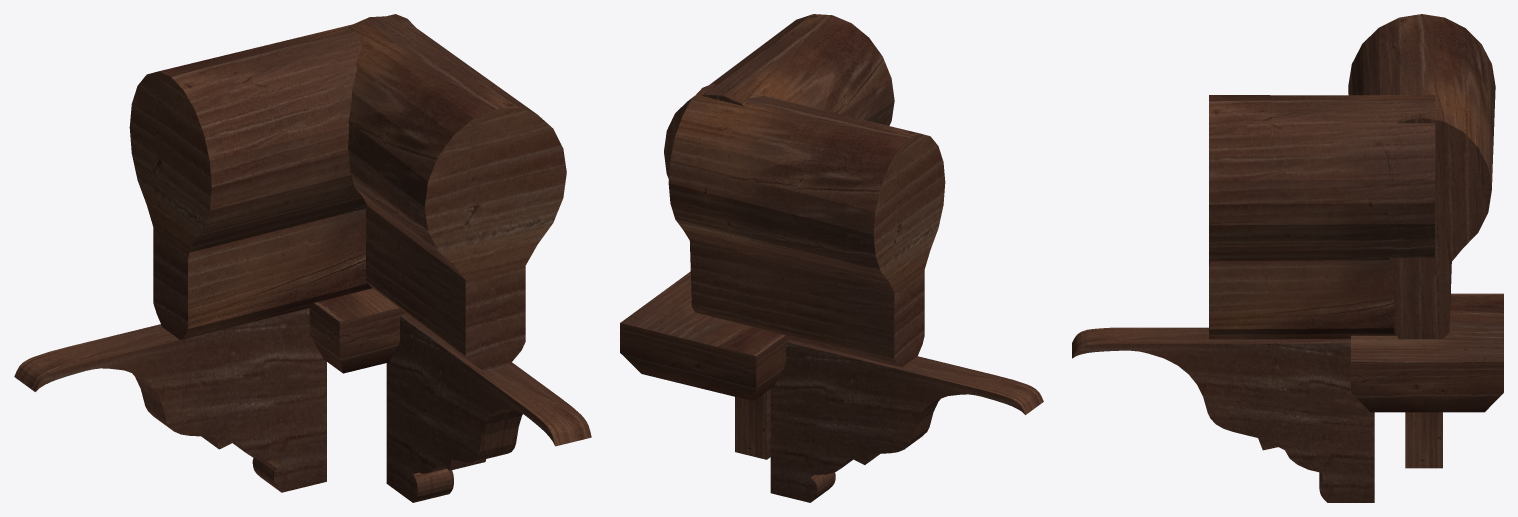
File: SM_R_DancheongCorner_12.fbx
3 views of the same model, side by side, from view 1: azimuth 30°, elevation 25°; view 2: azimuth 150°, elevation 25°; view 3: azimuth 270°, elevation 25° (orthographic). The views are drawn at different scales.
Visible parts, largest first — view 1: SM_R_DancheongCorner_12; view 2: SM_R_DancheongCorner_12; view 3: SM_R_DancheongCorner_12.
Boxes of the visible parts, left/top/right/bottom form: SM_R_DancheongCorner_12: left=14, top=14, right=591, bottom=502; SM_R_DancheongCorner_12: left=620, top=14, right=1043, bottom=502; SM_R_DancheongCorner_12: left=1072, top=14, right=1503, bottom=502.
Bounding box in the file's own units: 109 × 105 × 106.
3 materials, 3 textured.
